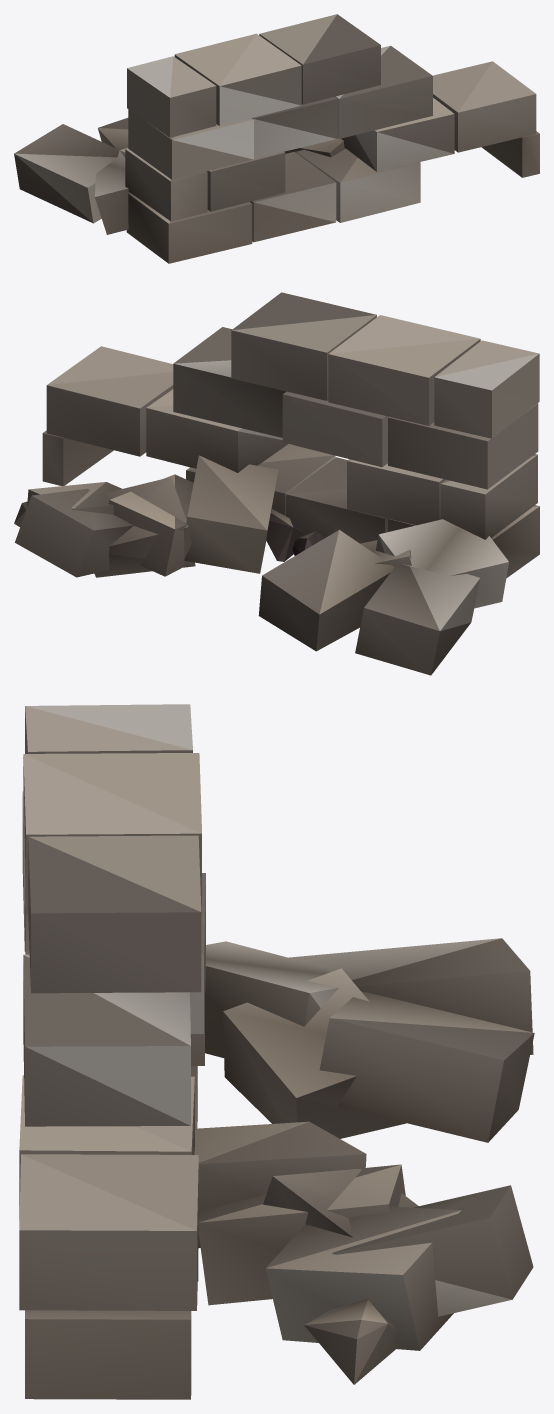
The model's file is ash_rubble.glb.
3 renders of one model, top to bottom at view 1: azimuth 30°, elevation 25°; view 2: azimuth 150°, elevation 25°; view 3: azimuth 270°, elevation 25°, orthographic. The views are drawn at different scales.
Visible parts, largest first — view 1: ca_ash_rubble; view 2: ca_ash_rubble; view 3: ca_ash_rubble.
Part boxes in pixels (bbox=[...]): ca_ash_rubble: bbox=[14, 14, 539, 263]; ca_ash_rubble: bbox=[14, 292, 539, 675]; ca_ash_rubble: bbox=[19, 704, 534, 1399].
Bounding box in the file's own units: 6.29 × 2.53 × 3.45.
1 material, 1 textured.
